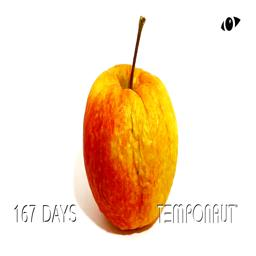Apple Semirotten: (67, 13, 182, 232)
